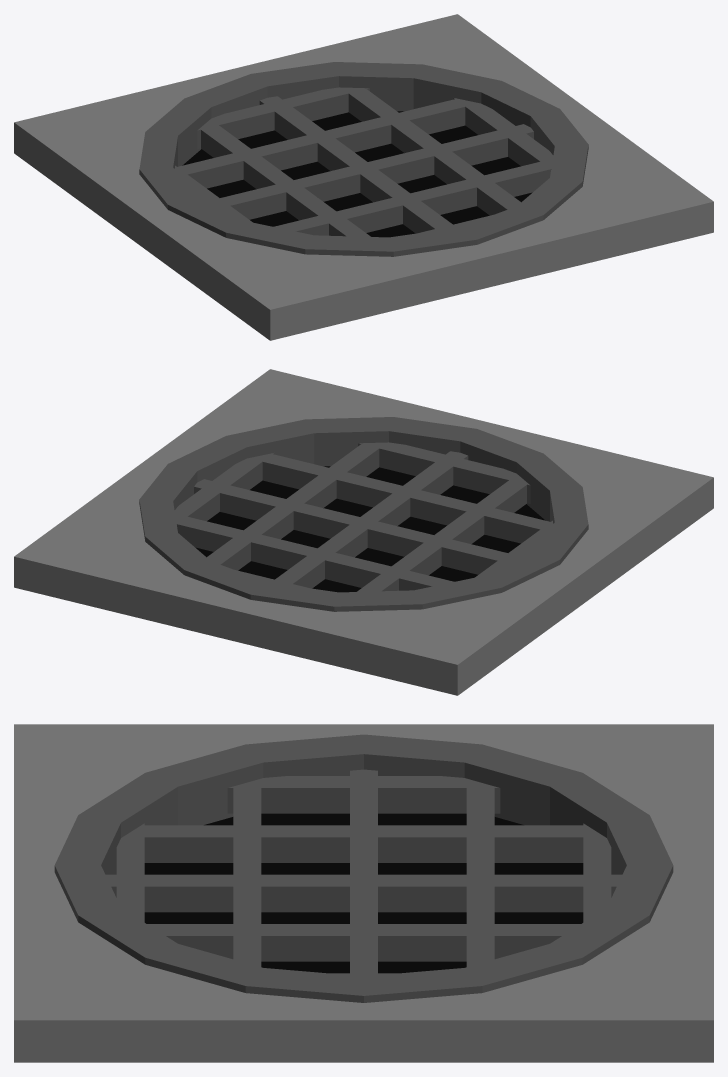
The model's file is grate.glb.
3 views of the same model, one above another, from view 1: azimuth 30°, elevation 25°; view 2: azimuth 150°, elevation 25°; view 3: azimuth 270°, elevation 25° (orthographic). The views are drawn at different scales.
Parts seen in each view (by area): view 1: DungeonFloorGrille; view 2: DungeonFloorGrille; view 3: DungeonFloorGrille.
Part boxes in pixels (x1,y1,x2,y2): DungeonFloorGrille: (14,14,713,340); DungeonFloorGrille: (14,369,713,695); DungeonFloorGrille: (14,724,713,1062).
Size of the model in its own units: 6 by 0.4674 by 6.
Materials: 1 (1 with a texture image).
